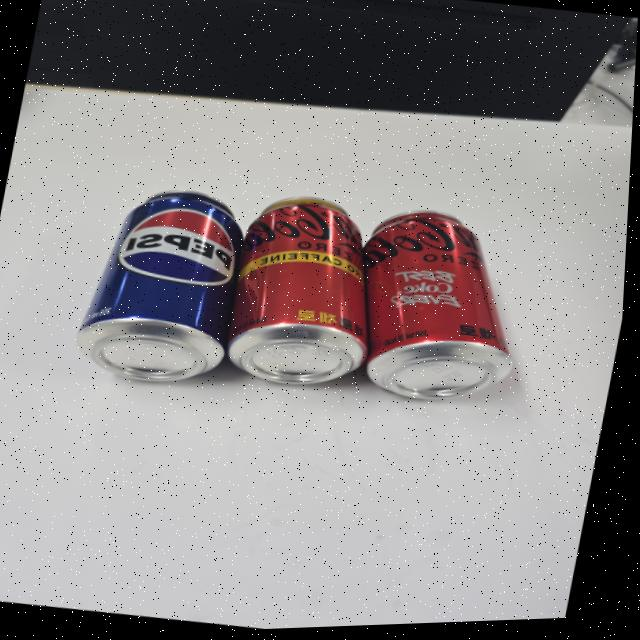can_coke_decaf: (227, 196, 362, 385)
can_coke_zero: (362, 211, 513, 402)
can_pepsi: (74, 189, 244, 381)
